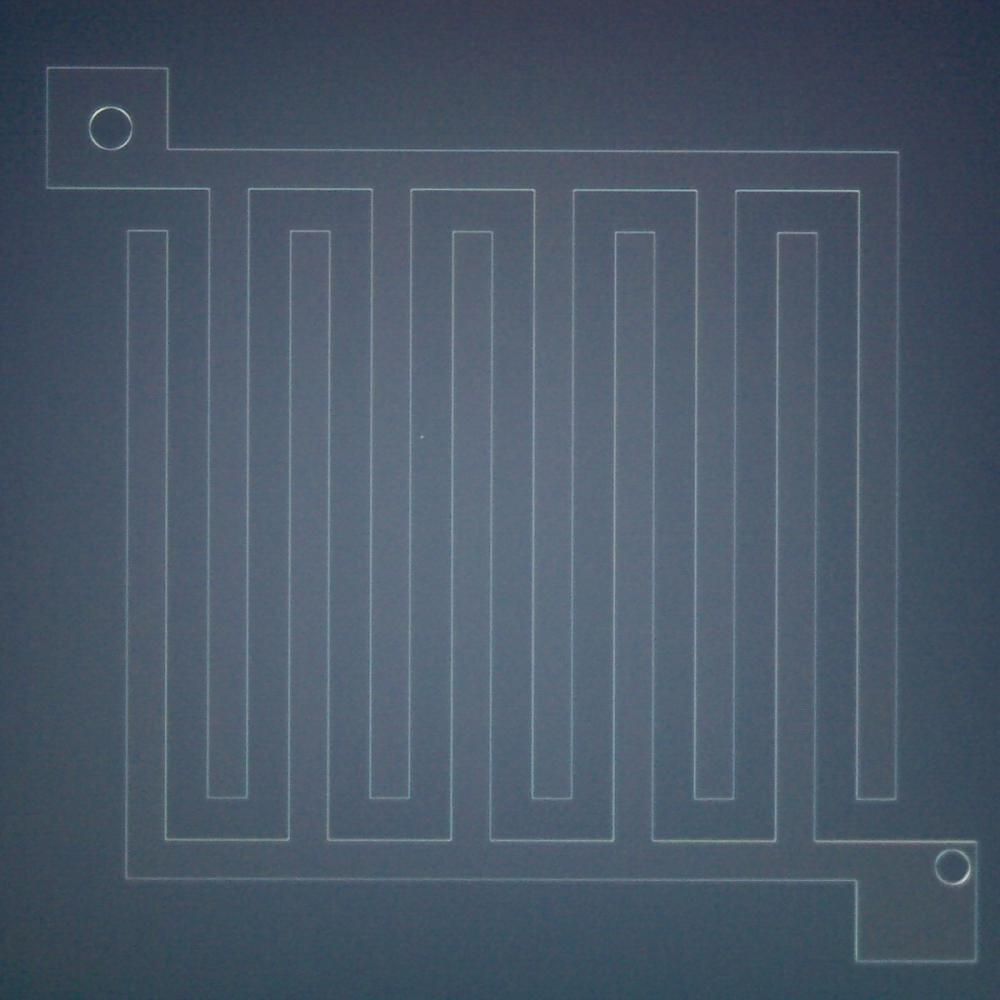circle: (82, 100, 136, 156), (929, 846, 976, 891)
